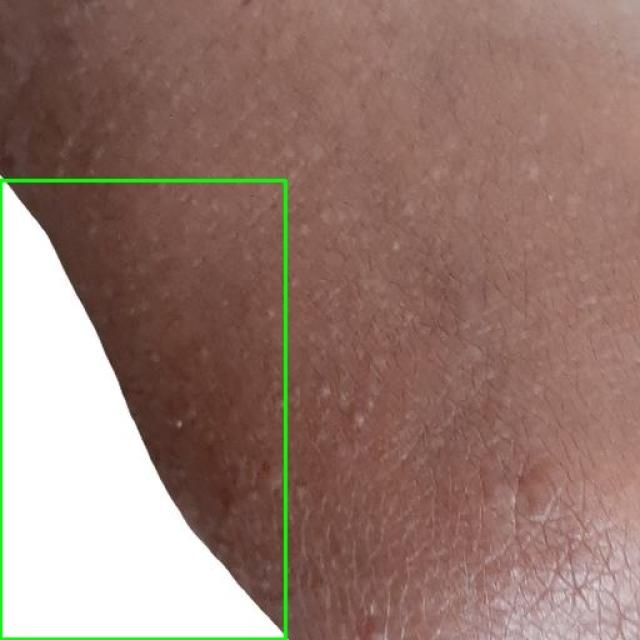Scabies: (0, 180, 285, 639)
